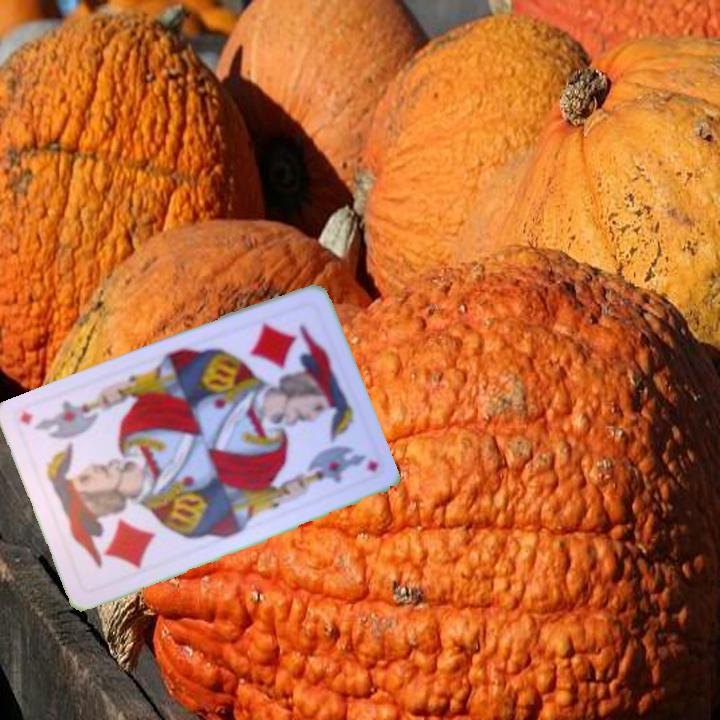d_j.png: (233, 298, 348, 421), (48, 471, 163, 594)
